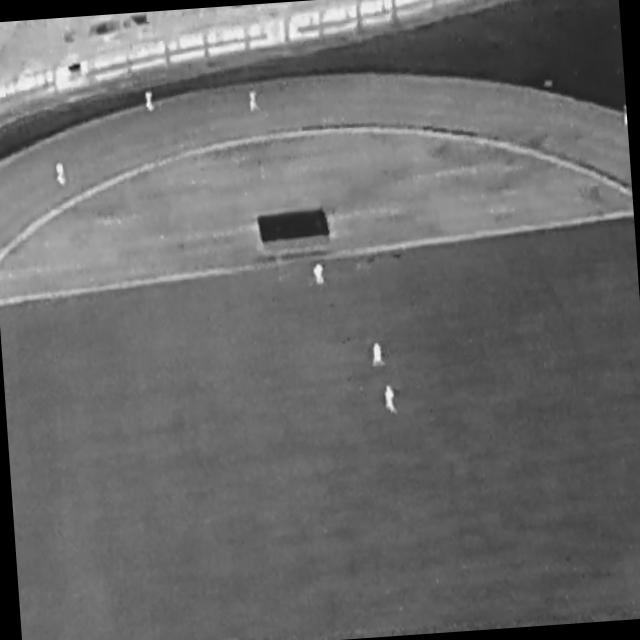person: (384, 385, 399, 416), (372, 342, 386, 368), (313, 261, 327, 287), (55, 164, 67, 189), (249, 90, 261, 113), (146, 91, 156, 113), (623, 105, 628, 126)
